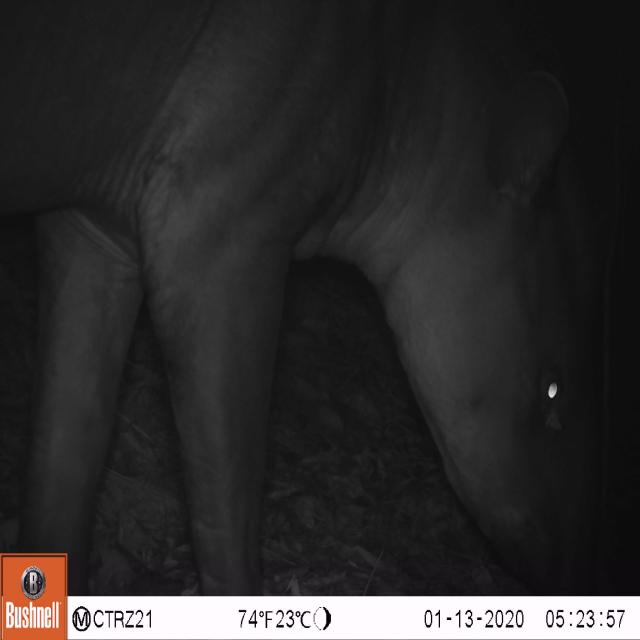Lowland Tapir: (0, 0, 624, 597)
